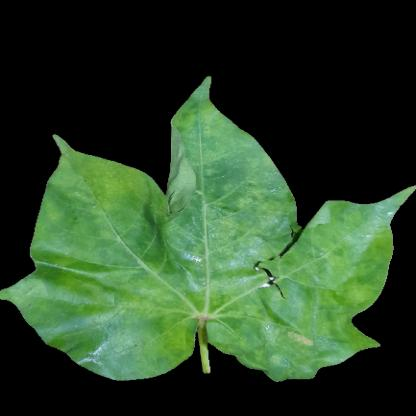curl_stage1: (48, 264, 265, 324), (73, 159, 161, 253), (201, 182, 295, 260), (314, 254, 380, 308), (134, 320, 198, 364), (186, 112, 229, 161)
healthy: (58, 321, 120, 375), (328, 205, 373, 257)
